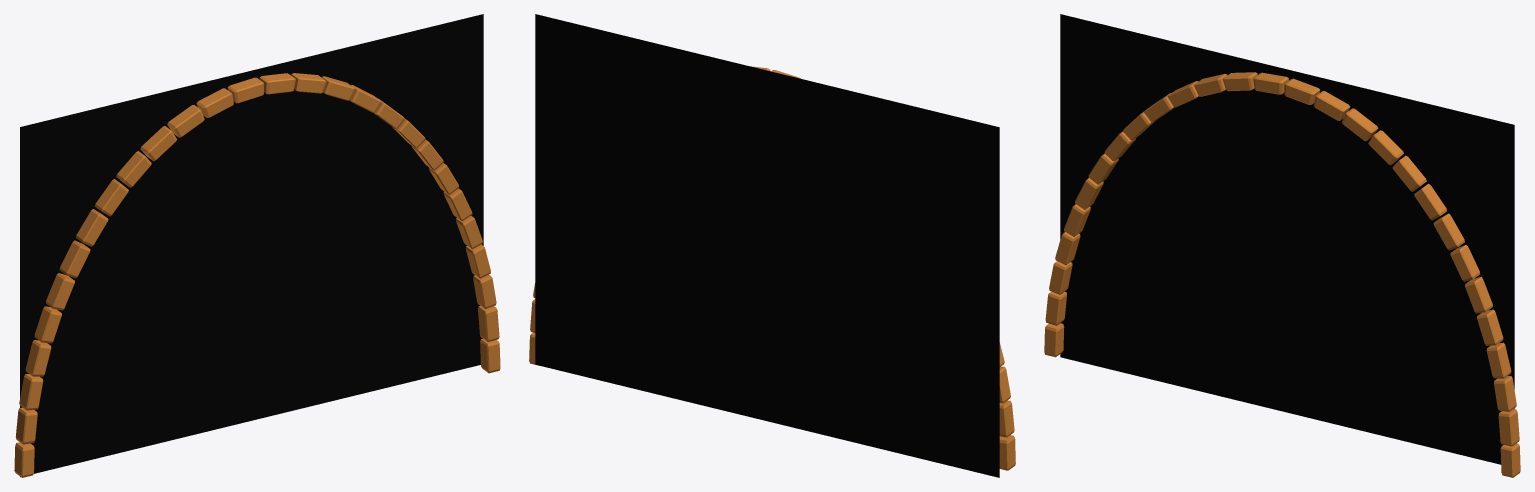
The model's file is CaveEntrance.fbx.
3 renders of one model, left to right at view 1: azimuth 30°, elevation 25°; view 2: azimuth 150°, elevation 25°; view 3: azimuth 330°, elevation 25°, orthographic. The views are drawn at different scales.
Parts seen in each view (by area): view 1: Plane, Cube; view 2: Plane, Cube; view 3: Plane, Cube.
Boxes of the visible parts, x1,y1,x2,y2 form: Plane: [20, 14, 483, 477]; Cube: [14, 73, 500, 477]; Plane: [535, 14, 999, 477]; Cube: [529, 66, 1015, 470]; Plane: [1060, 14, 1514, 464]; Cube: [1044, 72, 1520, 477].
Size of the model in its own units: 207 by 145 by 7.01.
